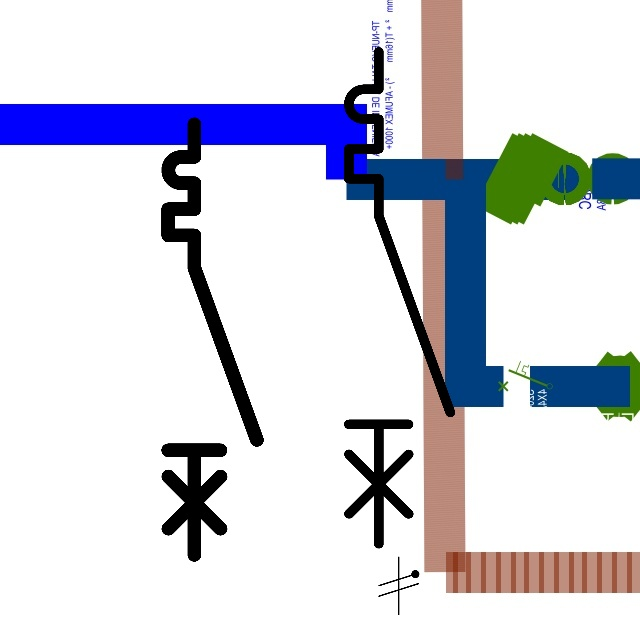interruptor_termomagnetico: (336, 39, 462, 556), (157, 113, 268, 566)
